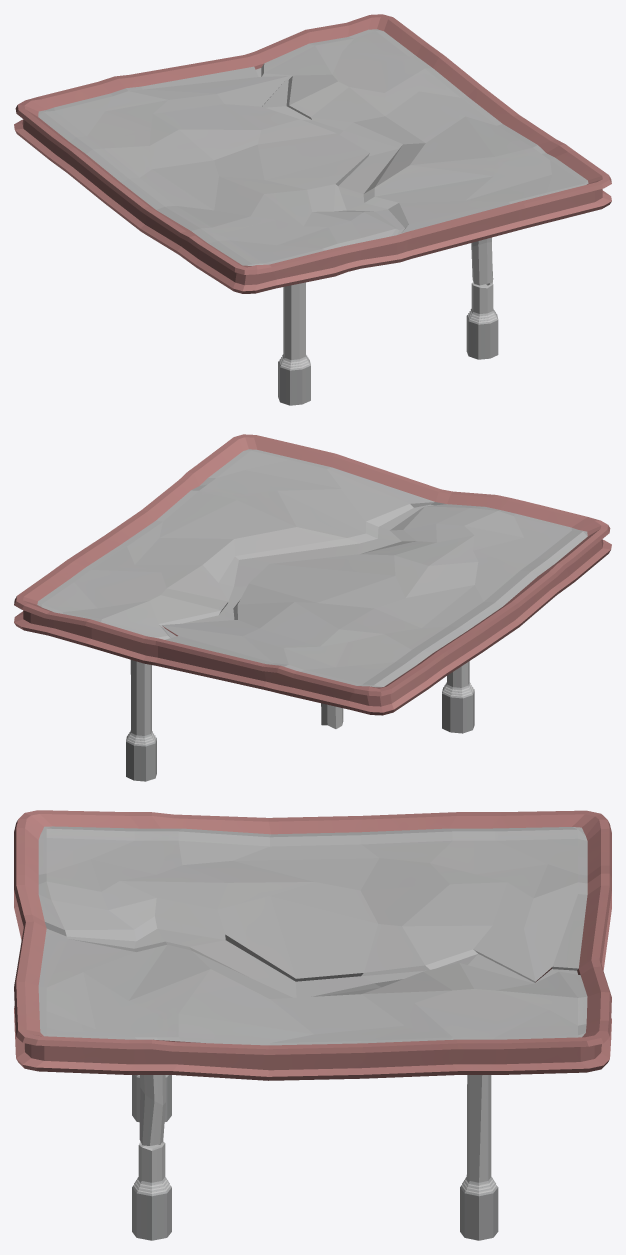
The model's file is gas_station_annex_roof_standing.glb.
The picture shows the model from 3 angles, top to bottom: view 1: azimuth 30°, elevation 25°; view 2: azimuth 150°, elevation 25°; view 3: azimuth 270°, elevation 25°; orthographic projection. The views are drawn at different scales.
Parts seen in each view (by area): view 1: gas_station_annex_roof_standing; view 2: gas_station_annex_roof_standing; view 3: gas_station_annex_roof_standing.
Part boxes in pixels (x1,y1,x2,y2): gas_station_annex_roof_standing: [14, 14, 611, 405]; gas_station_annex_roof_standing: [14, 434, 611, 781]; gas_station_annex_roof_standing: [14, 810, 611, 1240].
Size of the model in its own units: 9.92 by 4.76 by 10.63.
1 material, 1 textured.
